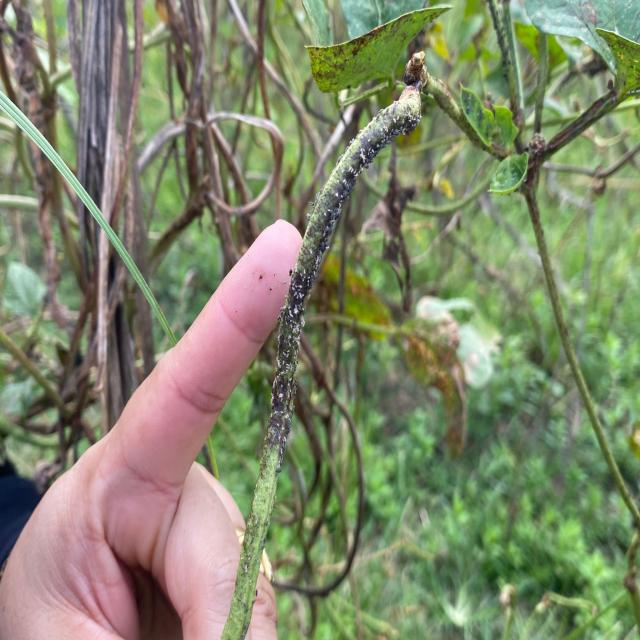leaf-moderate: (303, 0, 451, 92)
sitaw-aphid-moderate: (221, 53, 424, 640)
